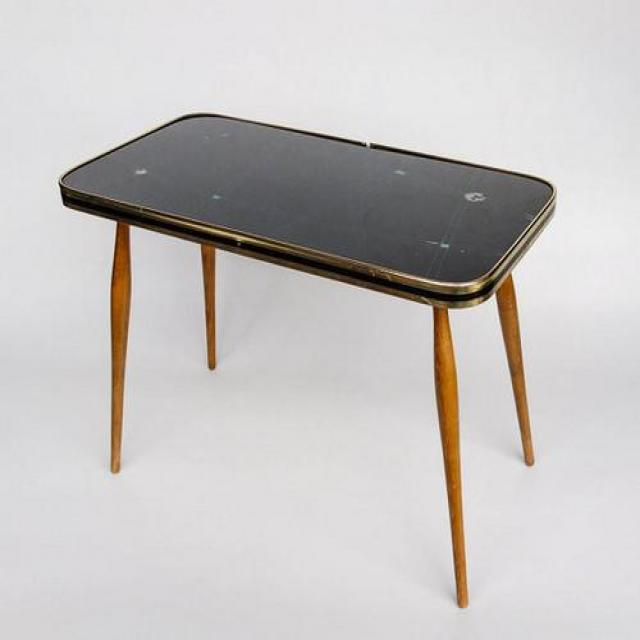Table: (39, 96, 598, 623)
